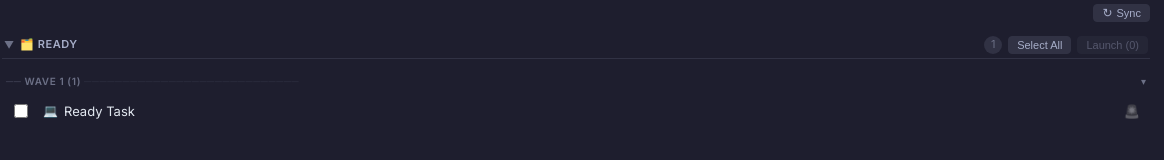
it: TaskList › when Ready is collapsed, wave cards are not rendered
Click the button with test id "group-header-ready" at (49, 44), box [2, 32, 1150, 59]
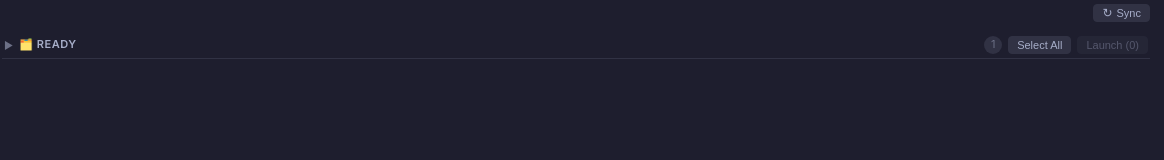
Result: the button "Ready Task" is gone
